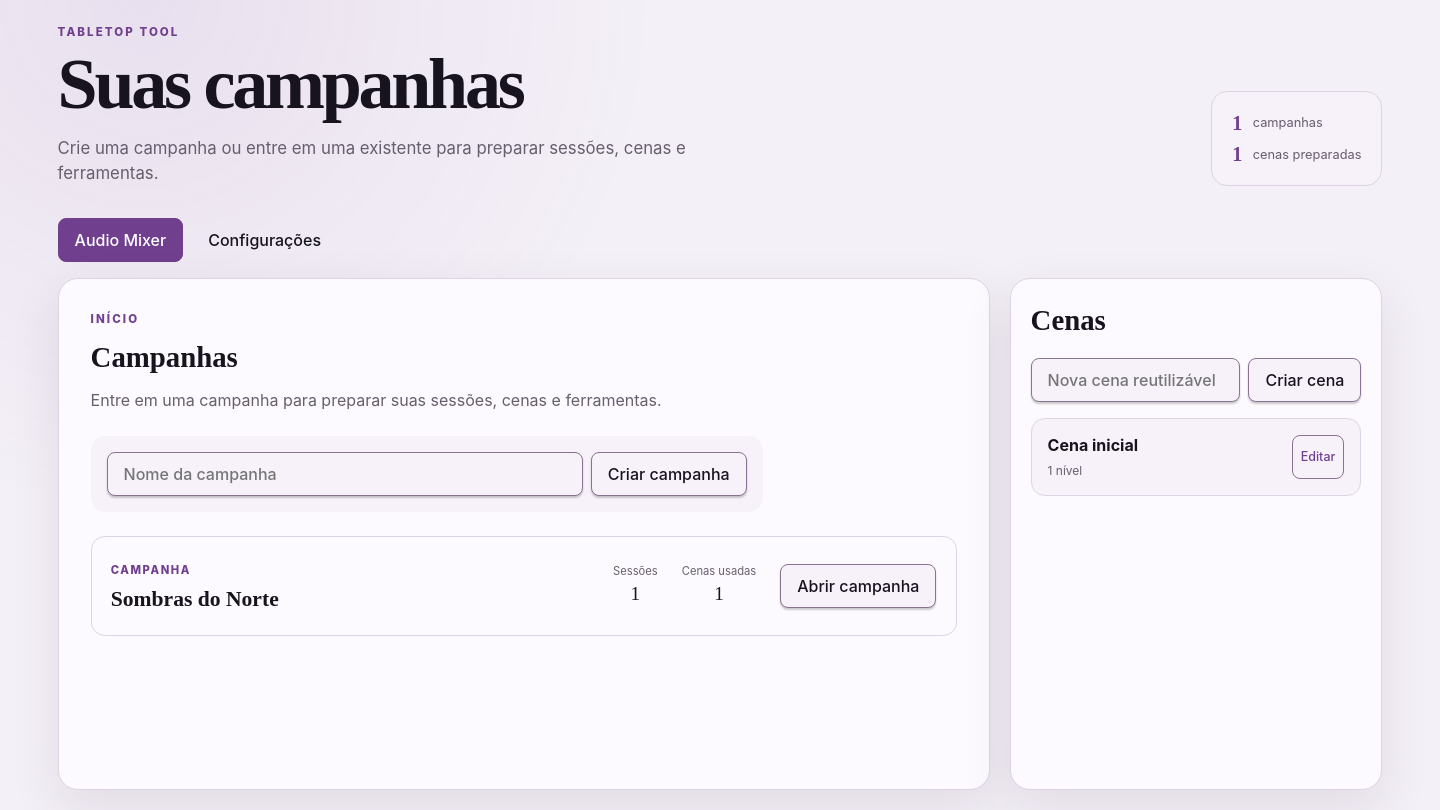
Scenario: Core workspace › opens an existing campaign from the campaign home
Expected: the heading "Suas campanhas" is shown, [58,44,522,124]
Expected: the heading "Cenas" is shown, [1031,299,1106,342]
Click the button with aria-label "Abrir campanha Sombras do Norte".
click(858, 586)  # box [780,564,936,608]
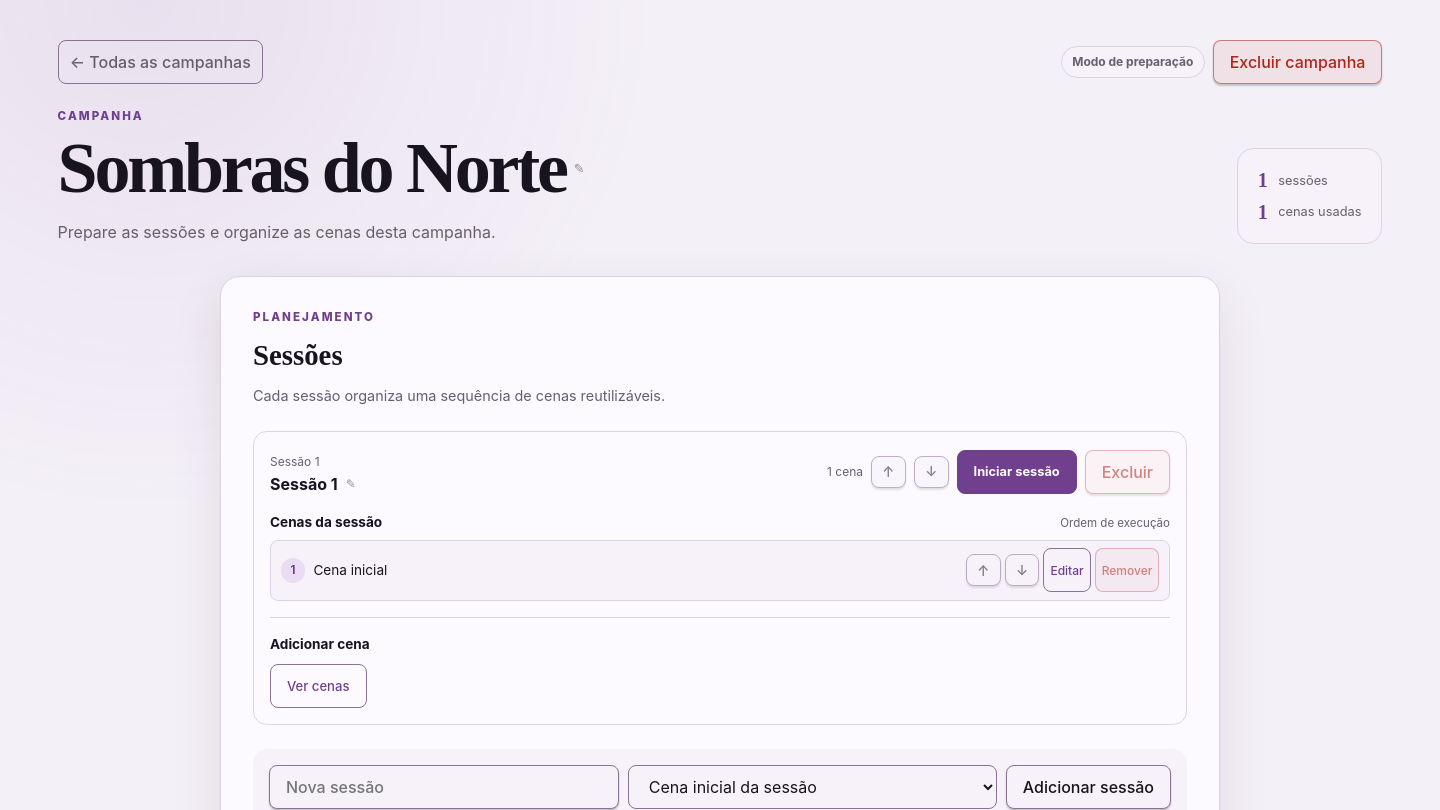
Now the button "← Todas as campanhas" is shown
Now the heading "Sessão 1" is shown, box [270,472,338,496]
Now the list named "Sequência de cenas" shows "Cena inicial", box [313,562,387,578]
Click the button "← Todas as campanhas".
click(160, 62)  # box [58,40,263,84]
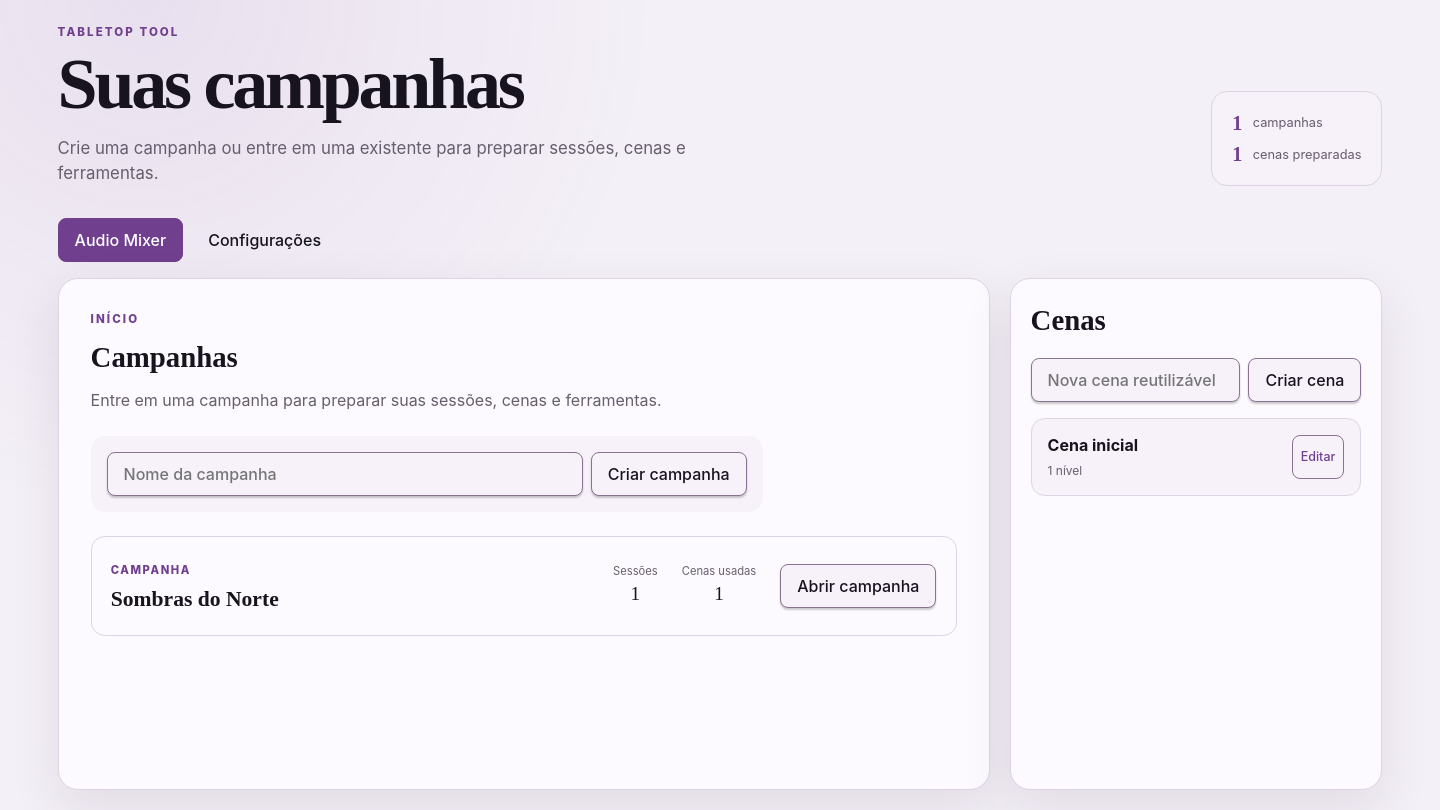
Now the heading "Suas campanhas" is shown, box [58,44,522,124]
